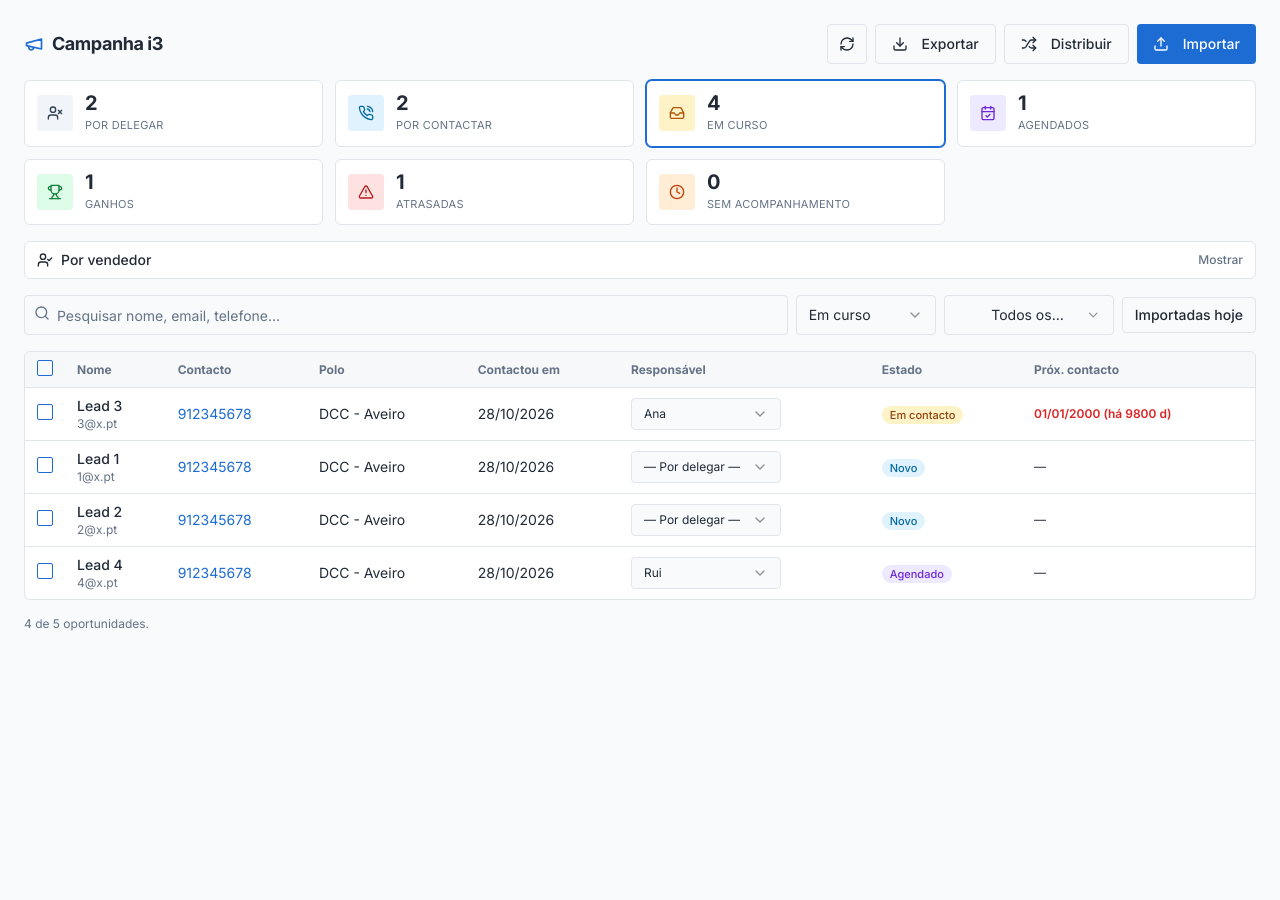
Scenario: Campanha i3 — administrador › seleciona várias e delega-as numa só operação
Check: the text "Lead 1" is shown, box [77,450,119,467]
Click the checkbox named "Selecionar Lead 1" at x=45, y=465, box [37,457,53,473]
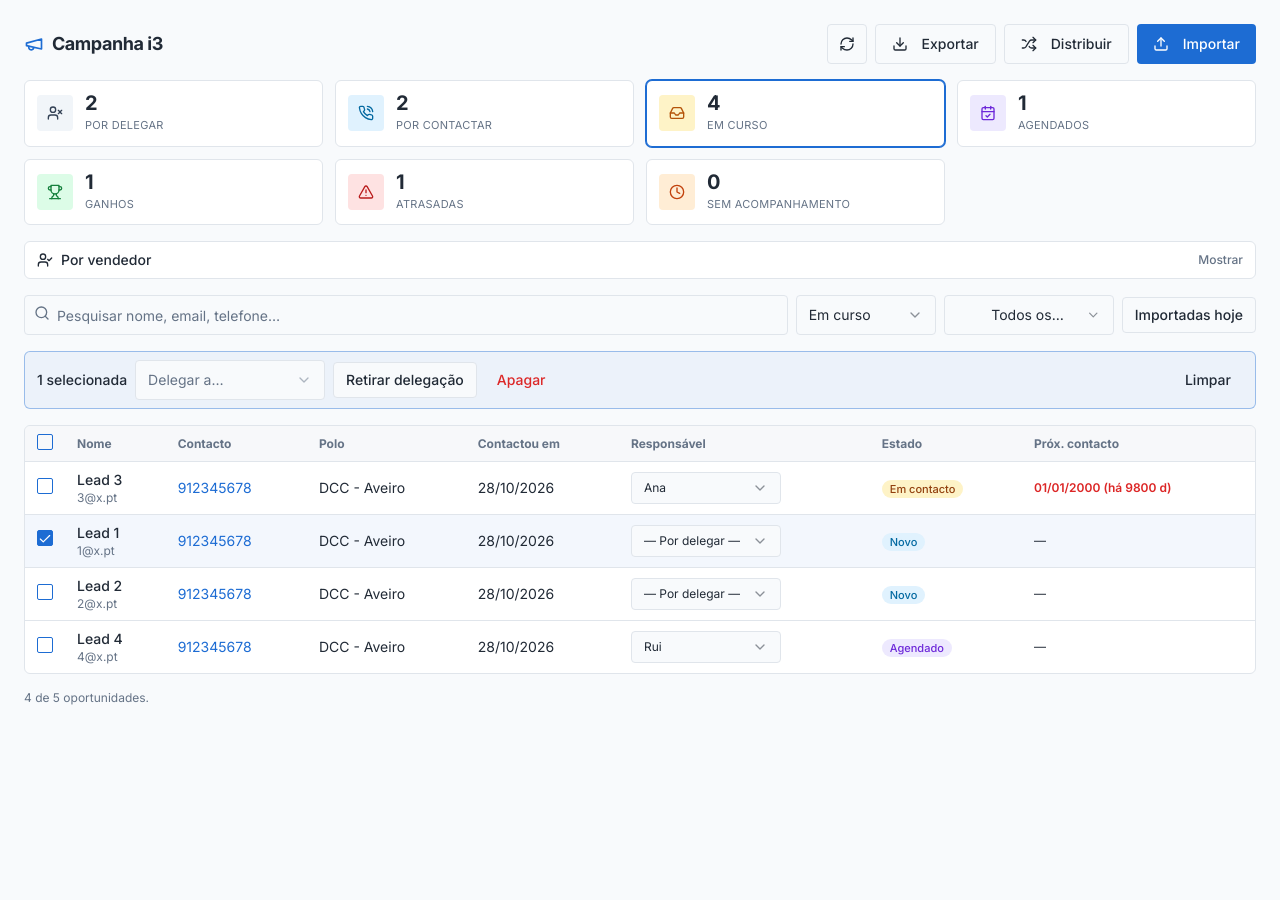
Click the checkbox named "Selecionar Lead 2" at x=45, y=592, box [37,584,53,600]
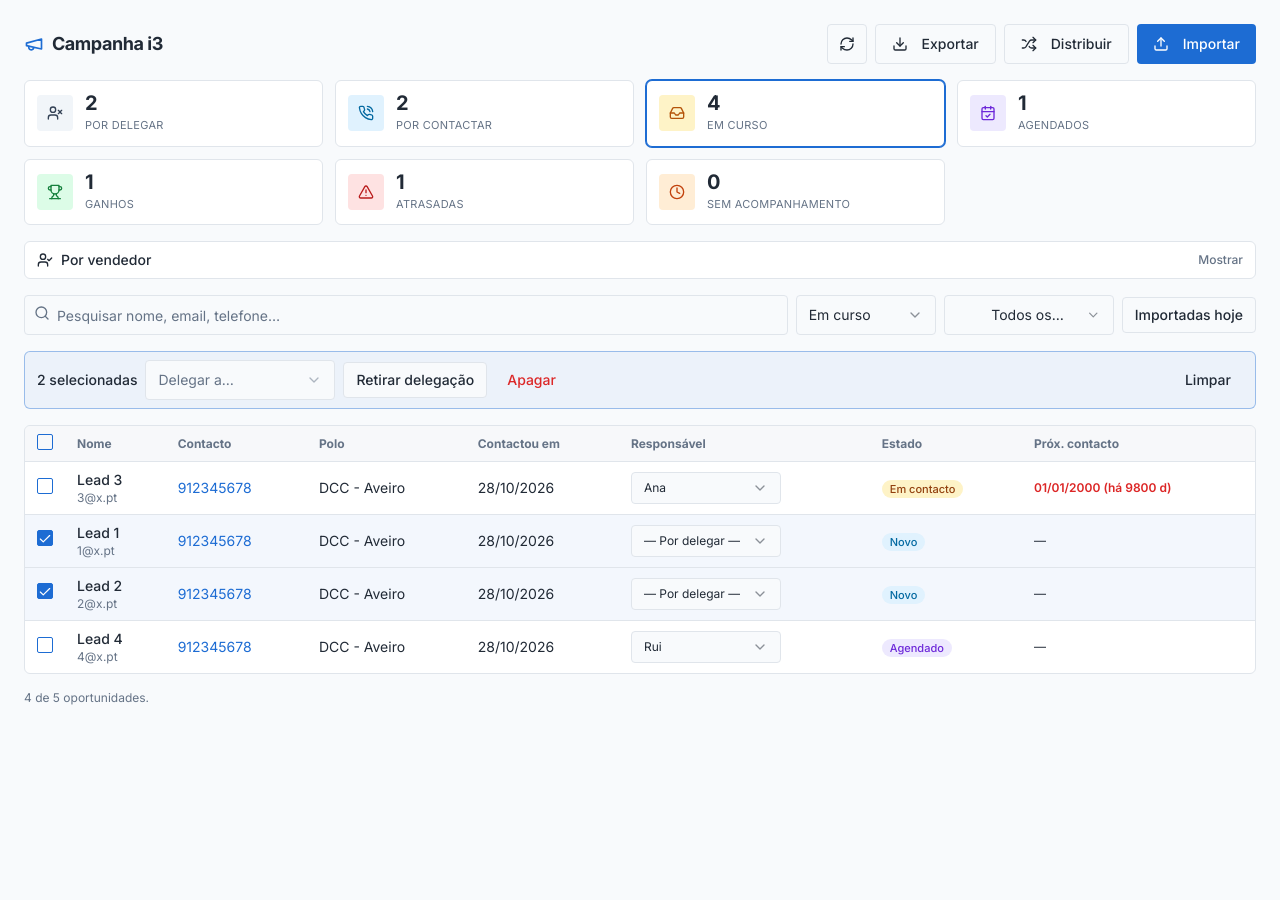
Check: the element with test id "barra-lote" shows "2 selecionadas", box [24,351,1256,409]
Click the dropdown labelled "Delegar a" at x=240, y=380, box [146,360,336,400]
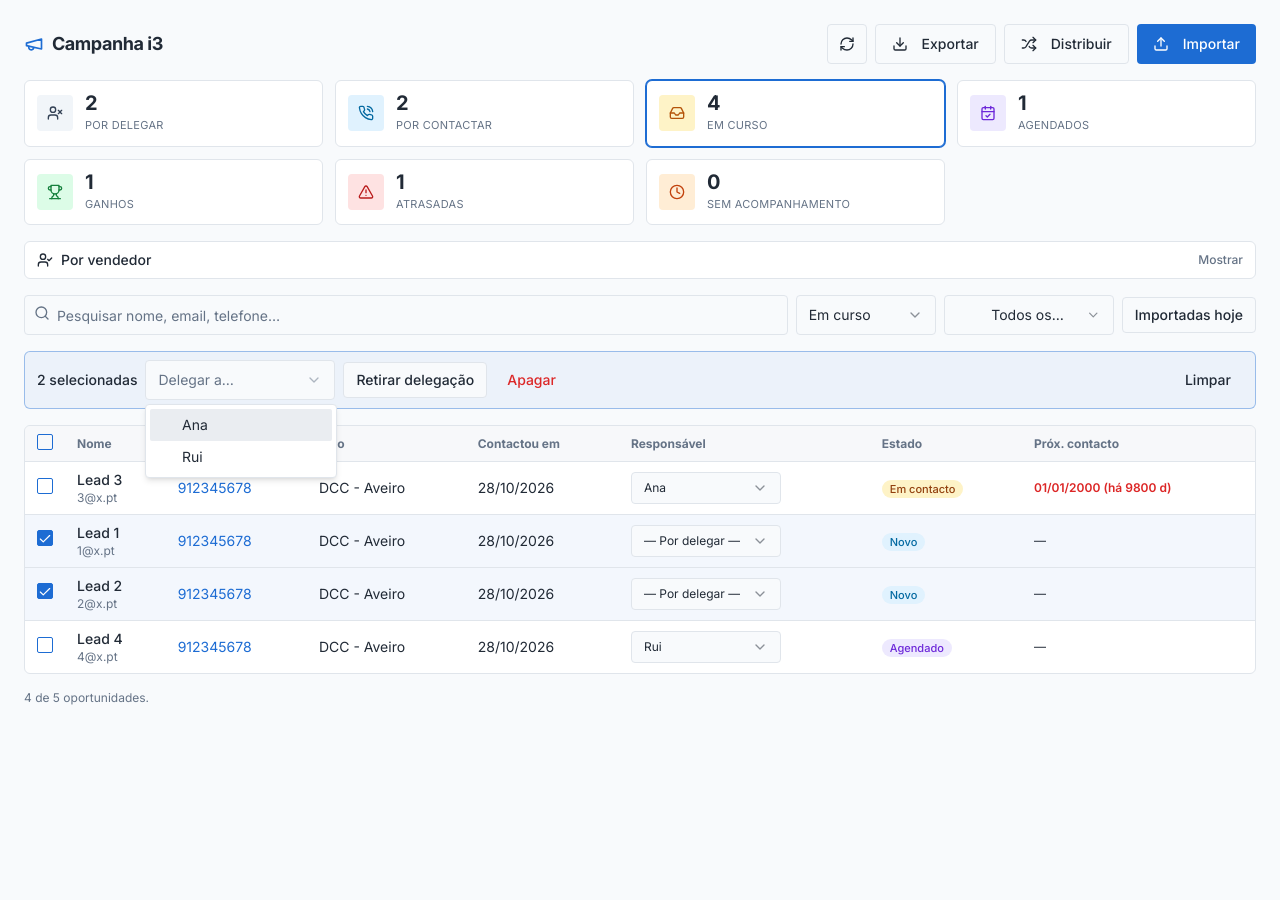
Click the option "Ana" at x=241, y=425, box [150,409,332,441]
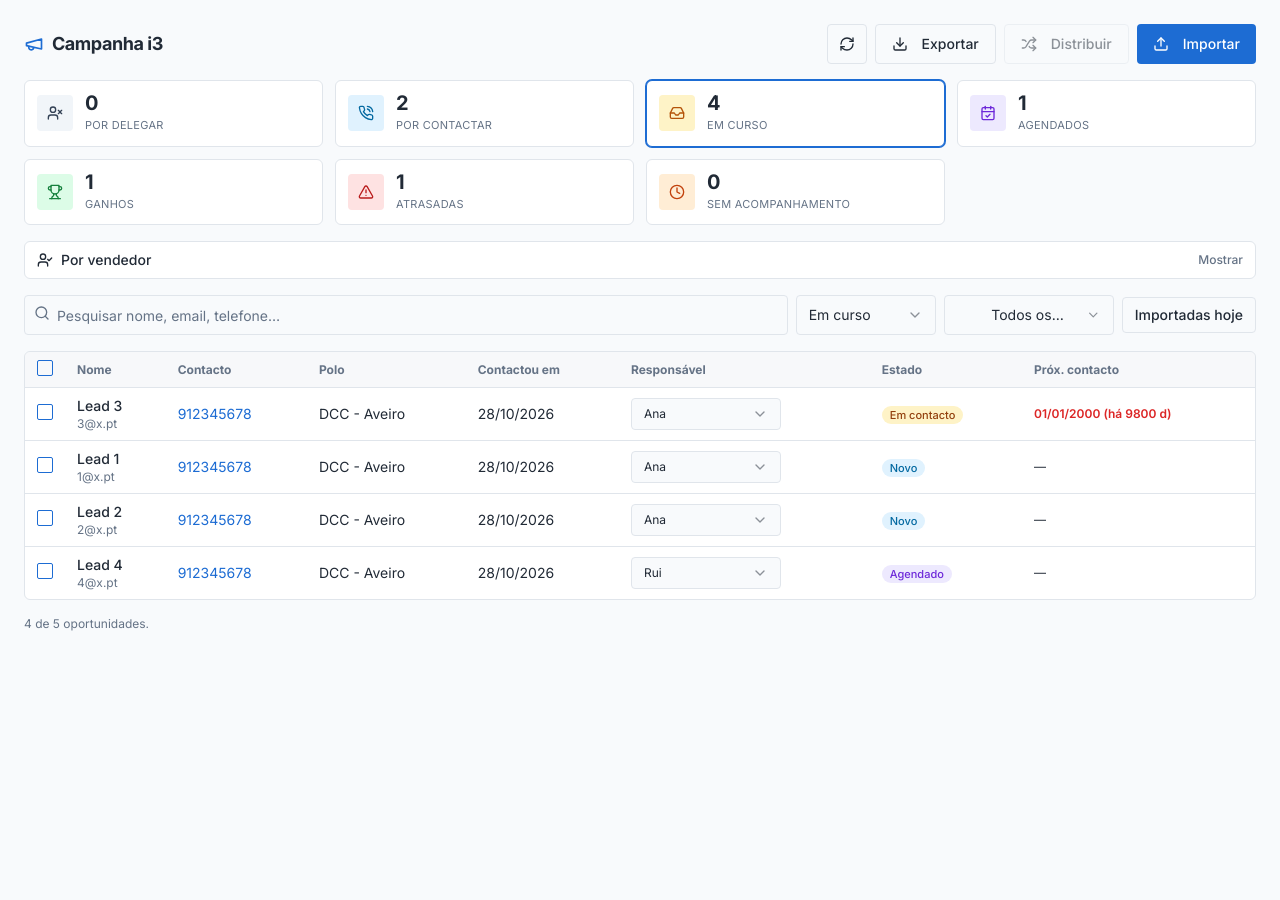
Check: the element with test id "barra-lote" is gone
